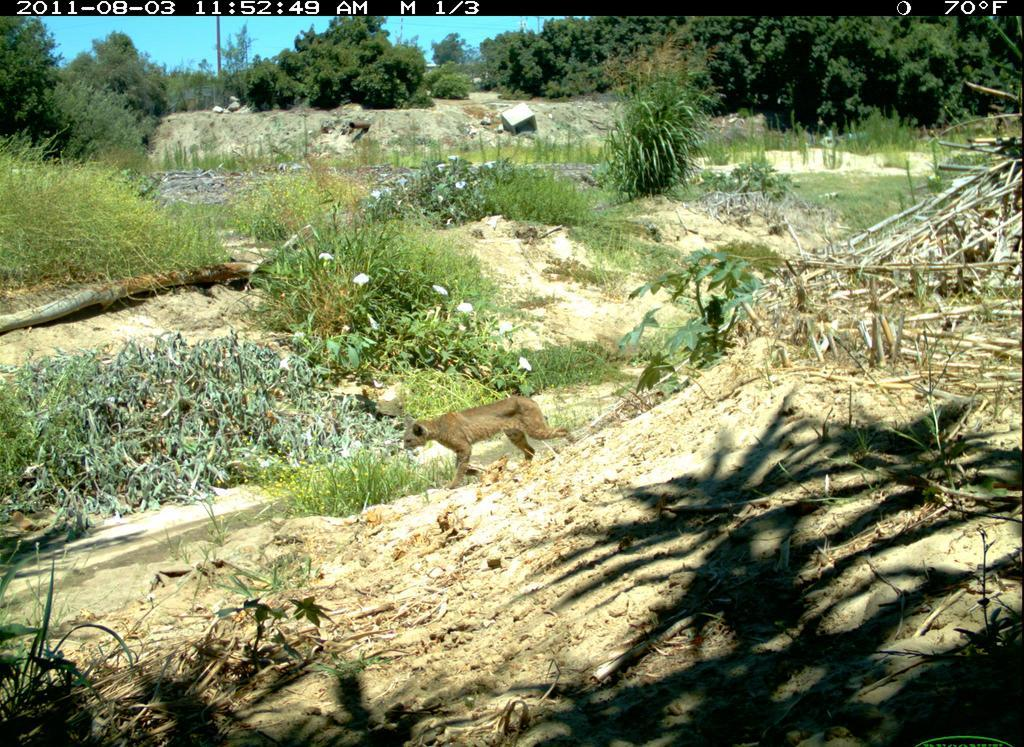bobcat: (401, 387, 579, 488)
